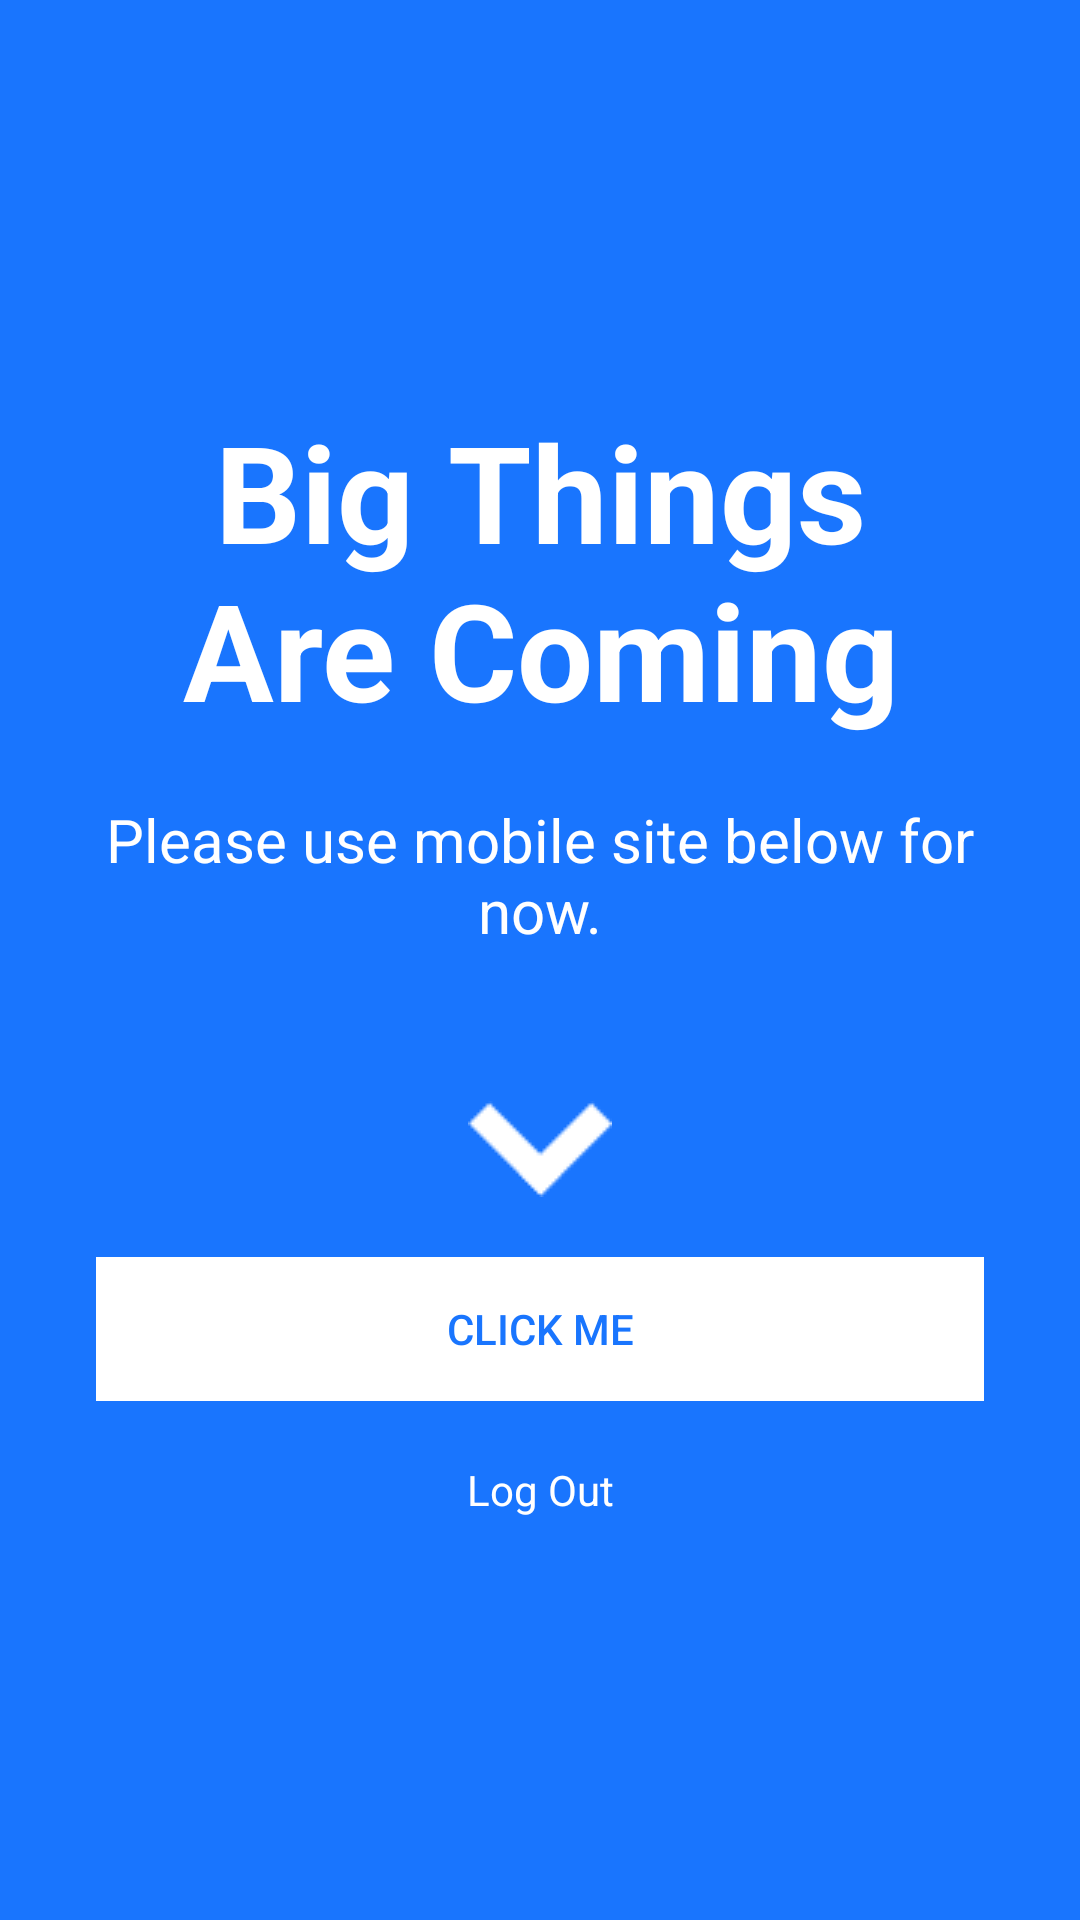

Where to tap for icons on this 1080px x 1920px app screen, as (x=x, y=y):
arrow down: (x=540, y=1150)
